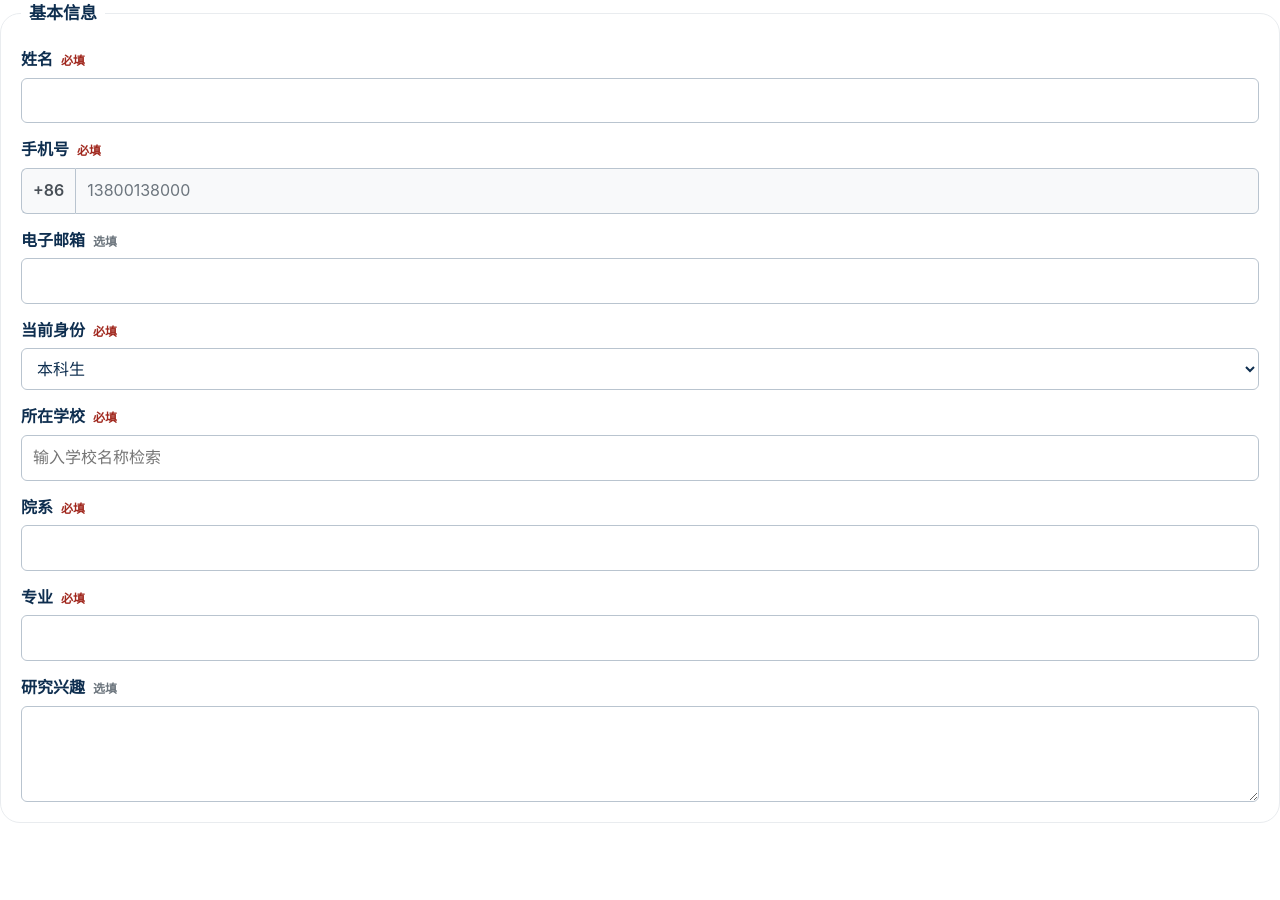
Test: registration renderers › allows applicants to browse every university when no search text is entered
Step 1. Focus the dropdown labelled "所在学校" → (640, 458), box [21,435,1259,480]
(page scrolled)
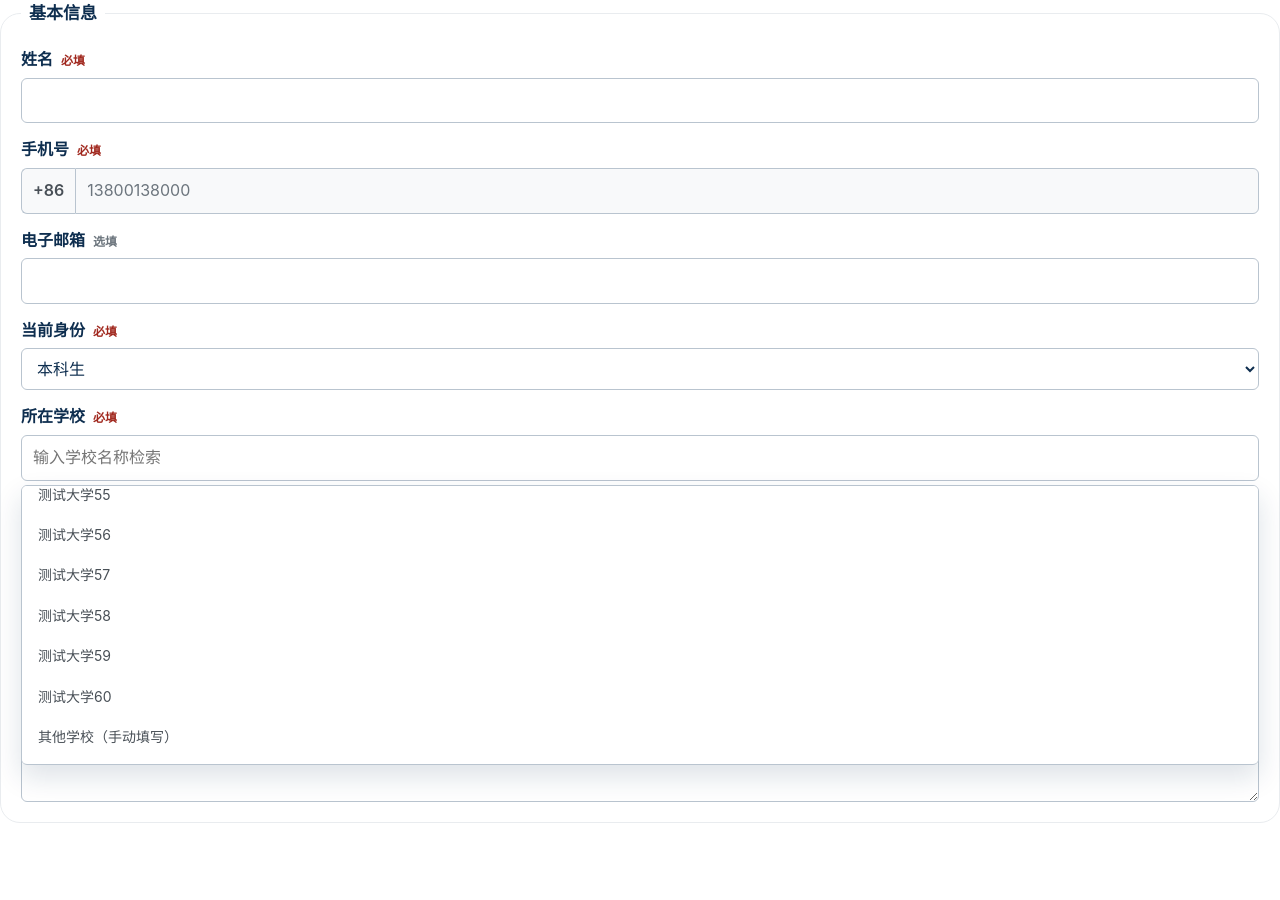
expect the option "测试大学60" is shown: met, box [38,688,112,705]
